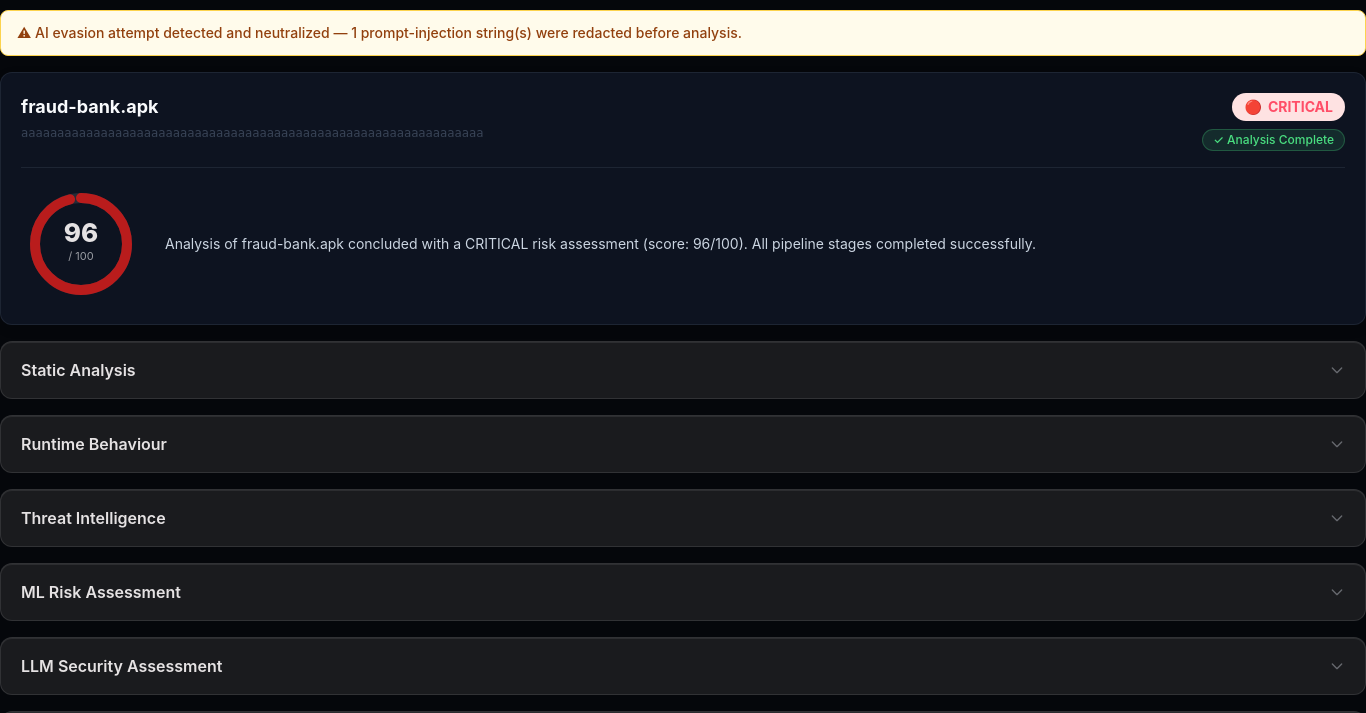
it: ReportViewer › shows LLM summary when report has summary_text
LLM section is an accordion — open it
Click the button "LLM Security Assessment" at [122, 666], box [1,638,1365,694]
(page scrolled)
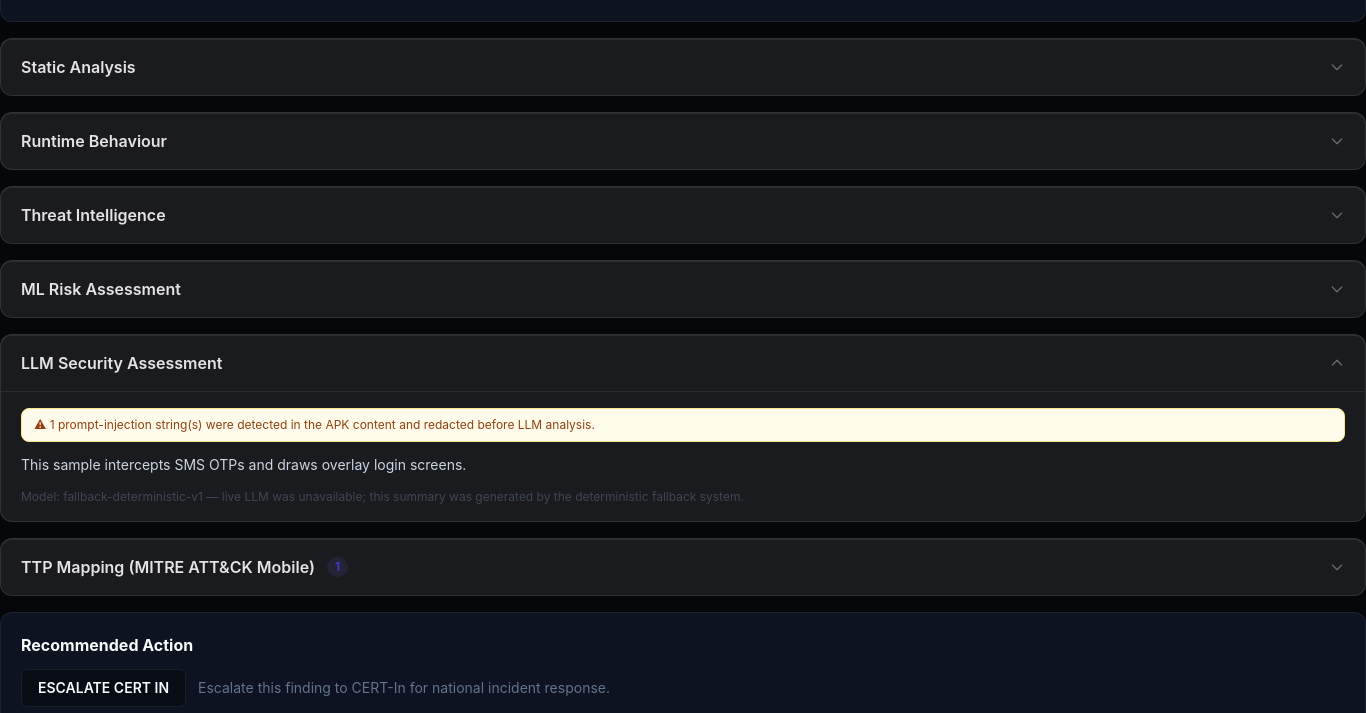
Check: the text "intercepts SMS OTPs" is shown, box [21,456,466,473]
